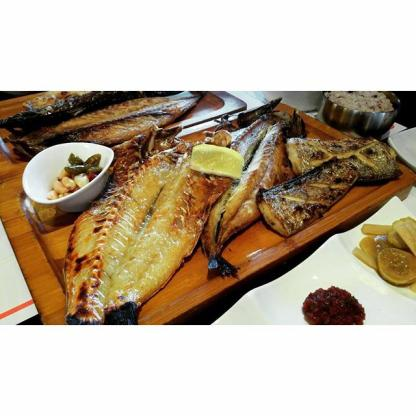Peixe: (74, 129, 232, 312), (196, 98, 320, 254), (14, 78, 200, 143)
